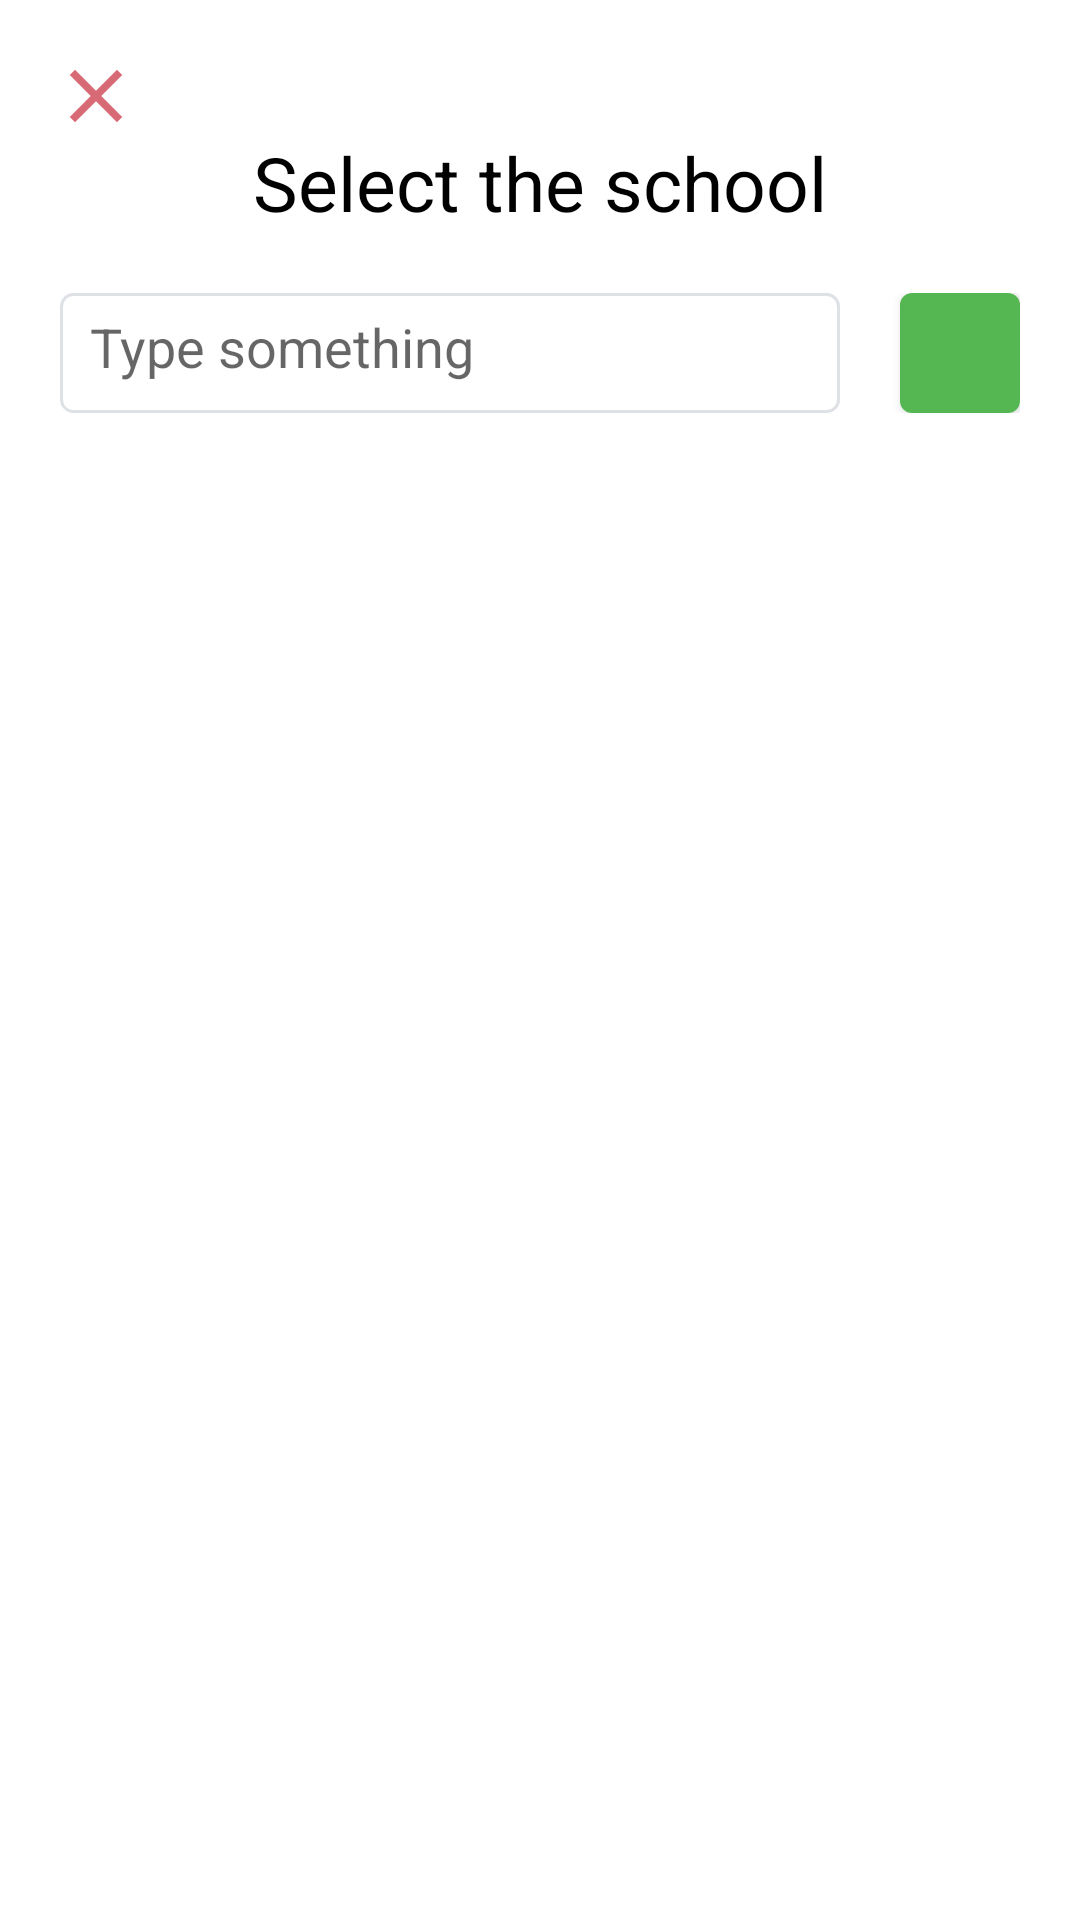

Icon click points for this 1080w x 1920h phone screenshot, format [x,y]:
close: [96,96]
